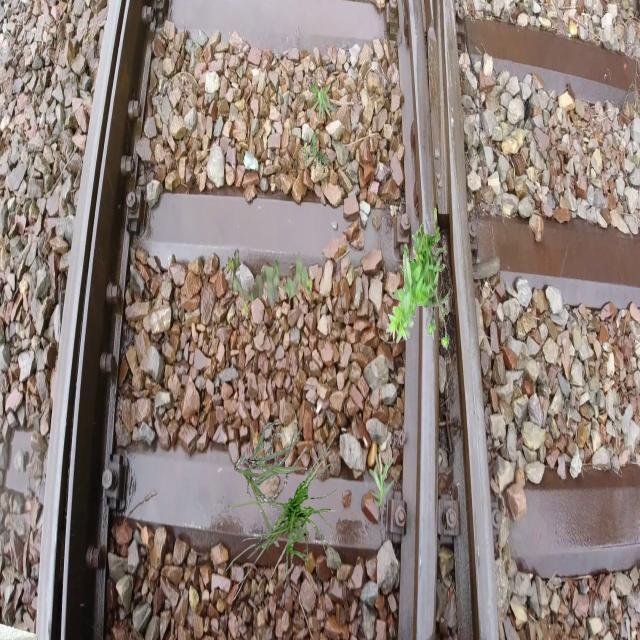Plant: (226, 439, 344, 602), (386, 207, 451, 350), (235, 422, 308, 546), (226, 248, 312, 316), (369, 451, 396, 508), (307, 80, 340, 126), (301, 132, 328, 173)
